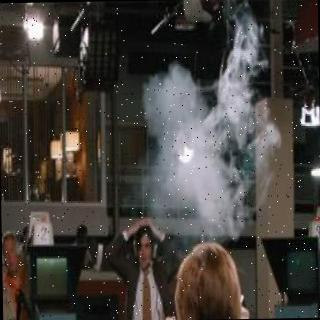smoke: (151, 44, 274, 238)
